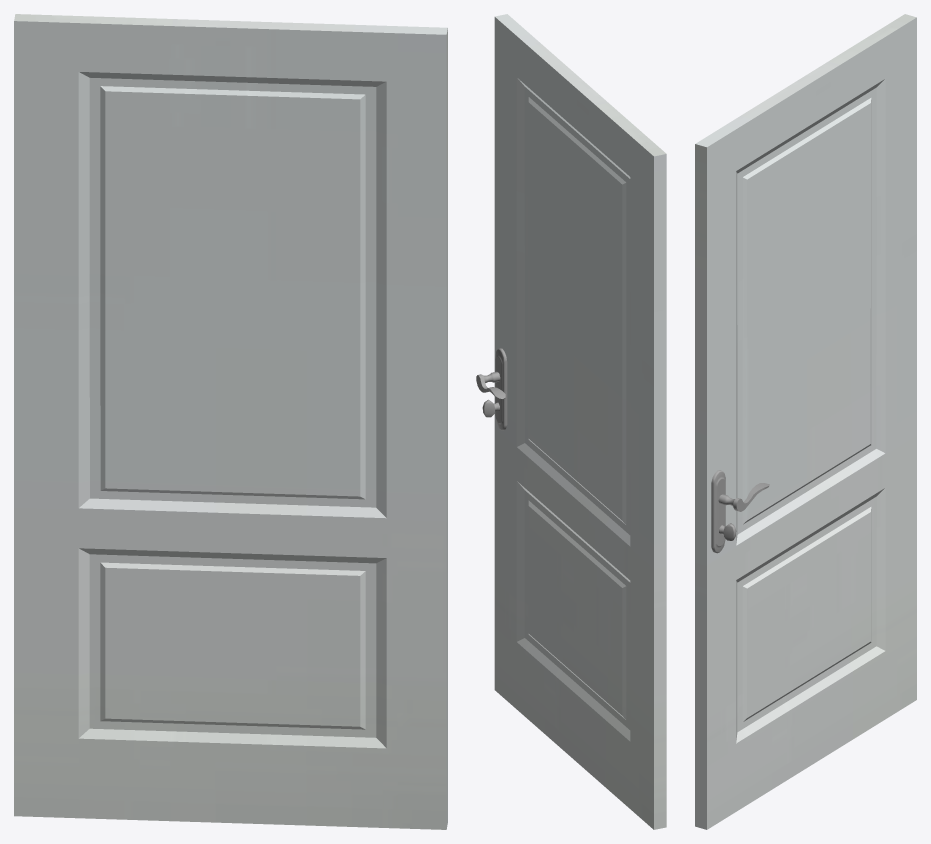
The model's file is men02.fbx.
3 views of the same model, side by side, from view 1: azimuth 30°, elevation 25°; view 2: azimuth 150°, elevation 25°; view 3: azimuth 270°, elevation 25° (orthographic). The views are drawn at different scales.
Visible parts, largest first — view 1: men02; view 2: men02; view 3: men02.
Boxes of the visible parts, x1=… form: men02: x1=14, y1=14, x2=447, y2=829; men02: x1=476, y1=14, x2=666, y2=829; men02: x1=695, y1=14, x2=916, y2=829.
Bounding box in the file's own units: 89.04 × 210 × 61.68.
